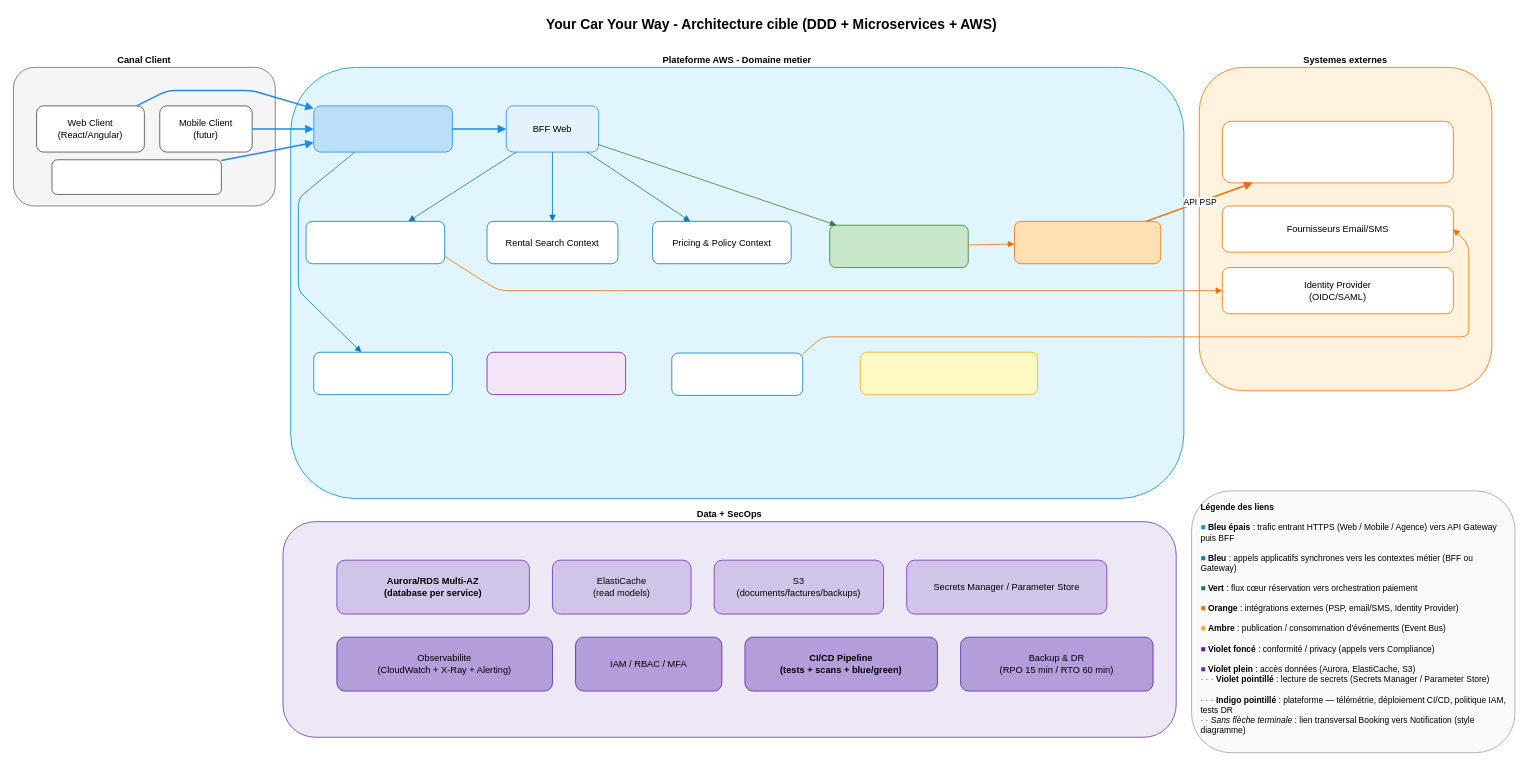
Some shapes in this 1528 by 766 pixel diagram are drawn without their labels. Here are the shapes that lost their labels. From the top down, the centre of each, then its label:
At point 382,128: "API Gateway + WAF".
At point 1337,152: "PSP externes (Stripe / Adyen / Checkout / dLocal)".
At point 136,176: "Applications agence (API CRUD)".
At point 375,242: "Identity & Profile Context".
At point 898,246: "Booking Context (Core)".
At point 1087,242: "Payment Orchestration Context".
At point 382,373: "Agency API Context".
At point 556,373: "Compliance & Privacy Context".
At point 737,373: "Notification Context".
At point 949,373: "Event Bus (EventBridge / SNS-SQS)".
